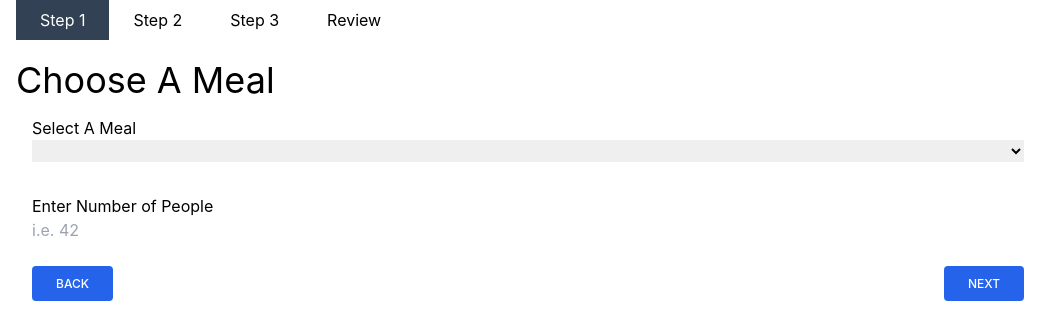
Test case: goes to step 2 when restaurant and number of people are selected
Expected: the button with test id "next-button" is shown, [944,266,1024,301]
Expected: the number field with test id "input-number-of-people" is shown, [32,218,1024,242]
Select "lunch" in the dropdown with test id "select-meal": (528, 151) [32,140,1024,162]
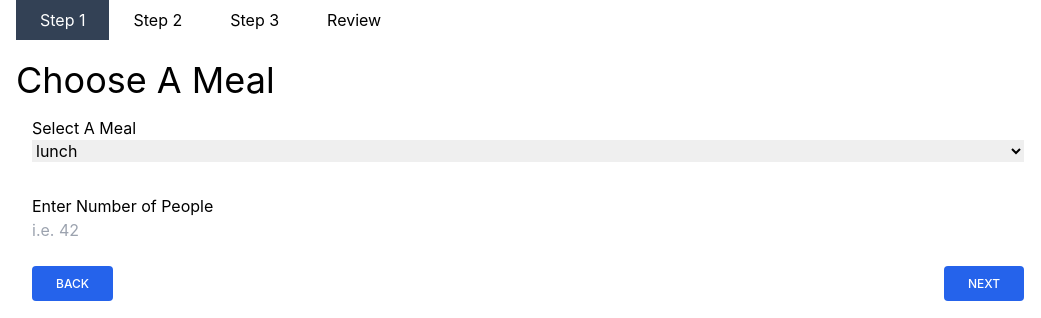
In the number field with test id "input-number-of-people": (528, 230) [32,218,1024,242], type "1"
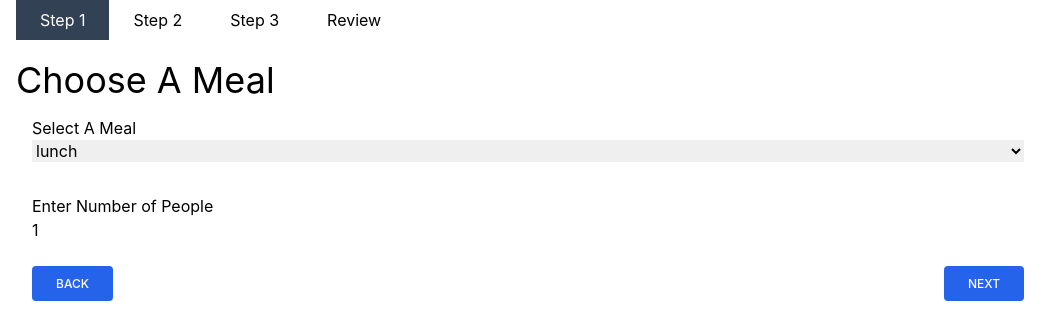
Click the button with test id "next-button": (984, 284) [944,266,1024,301]
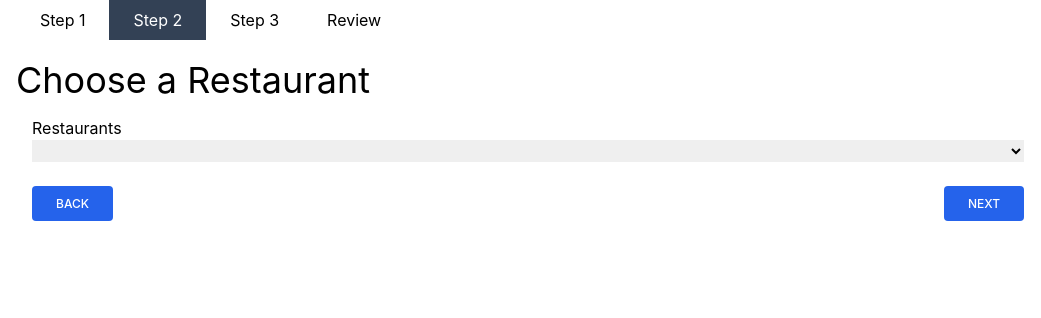
Result: the heading "Choose a Restaurant" is shown at [16,58,370,102]
